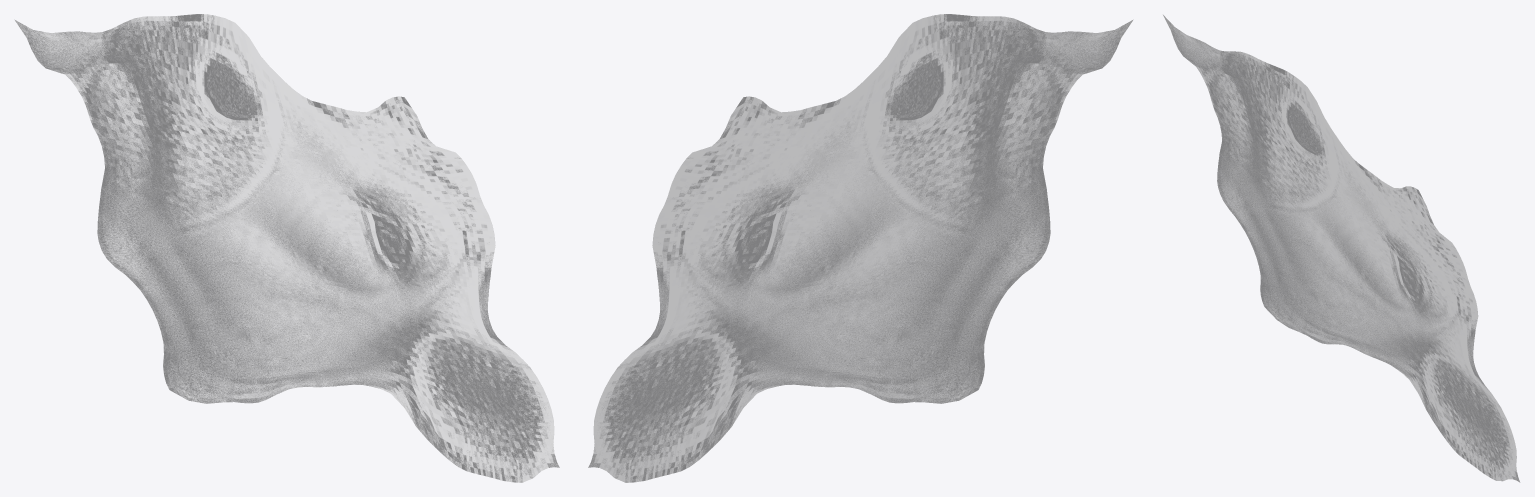
Rendered from processed_mesh.obj.
The picture shows the model from 3 angles, left to right: view 1: azimuth 30°, elevation 25°; view 2: azimuth 150°, elevation 25°; view 3: azimuth 330°, elevation 25°; orthographic projection. The views are drawn at different scales.
Bounding box in the file's own units: 2.8 × 2.88 × 0.
1 material, 1 textured.
